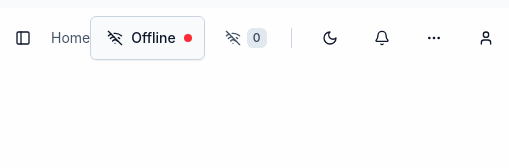
it: VitalSense Branding Compliance › Brand Text Consistency › should display VitalSense in navigation header
The image size is (509, 168).
(page scrolled)
VitalSense appears in the quick-actions dropdown
What coordinates should you click on to do the following:
click the button named "More actions"
I would click on:
 (434, 38)
Its box is [412, 16, 456, 60].
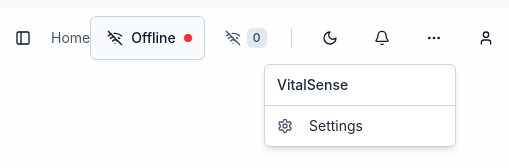
Now the text "VitalSense" is shown, box [277, 76, 348, 93]
